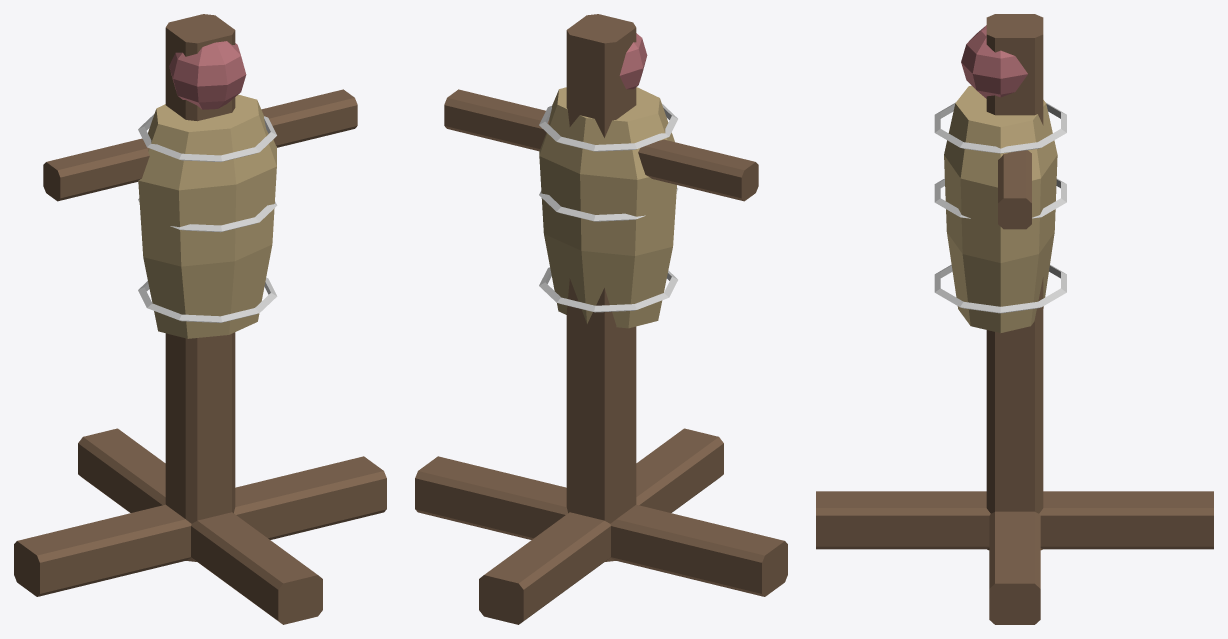
The model's file is training_pell.glb.
3 views of the same model, side by side, from view 1: azimuth 30°, elevation 25°; view 2: azimuth 150°, elevation 25°; view 3: azimuth 270°, elevation 25° (orthographic).
Visible parts, largest first — view 1: training_pell; view 2: training_pell; view 3: training_pell.
Part boxes in pixels (<box>): training_pell: <box>14,14,386,624</box>; training_pell: <box>415,14,787,624</box>; training_pell: <box>816,14,1213,624</box>.
Bounding box in the file's own units: 1.4 × 2 × 1.4.
